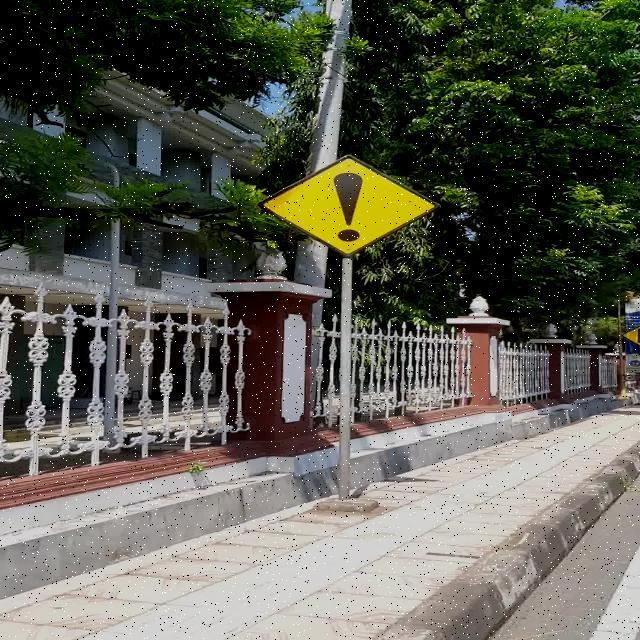Hati-Hati: (257, 154, 442, 258)
